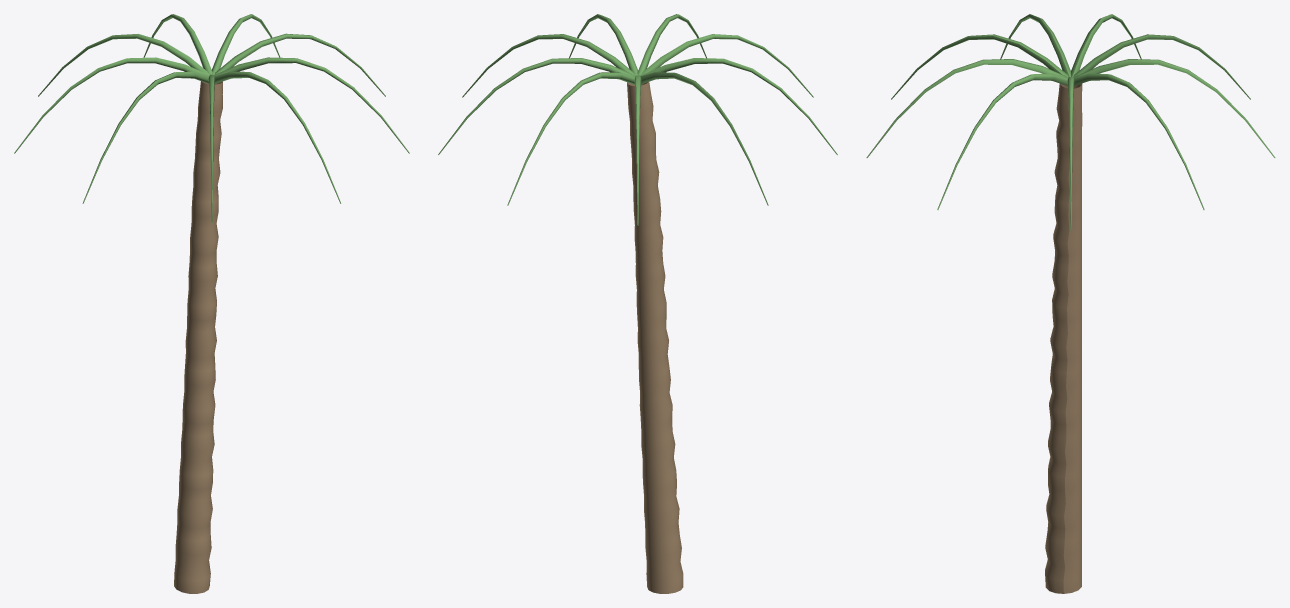
The model's file is PalmTrunk.glb.
3 renders of one model, left to right at view 1: azimuth 30°, elevation 25°; view 2: azimuth 150°, elevation 25°; view 3: azimuth 270°, elevation 25°, orthographic. The views are drawn at different scales.
Parts seen in each view (by area): view 1: Palm_trunk, Palm_fronds; view 2: Palm_trunk, Palm_fronds; view 3: Palm_trunk, Palm_fronds.
Part boxes in pixels (x1,y1,x2,y2): Palm_trunk: (174, 81, 222, 593); Palm_fronds: (14, 14, 409, 223); Palm_trunk: (627, 82, 683, 593); Palm_fronds: (438, 14, 837, 225); Palm_trunk: (1045, 83, 1082, 593); Palm_fronds: (866, 14, 1275, 230).
Bounding box in the file's own units: 3.69 × 5.51 × 3.75.
